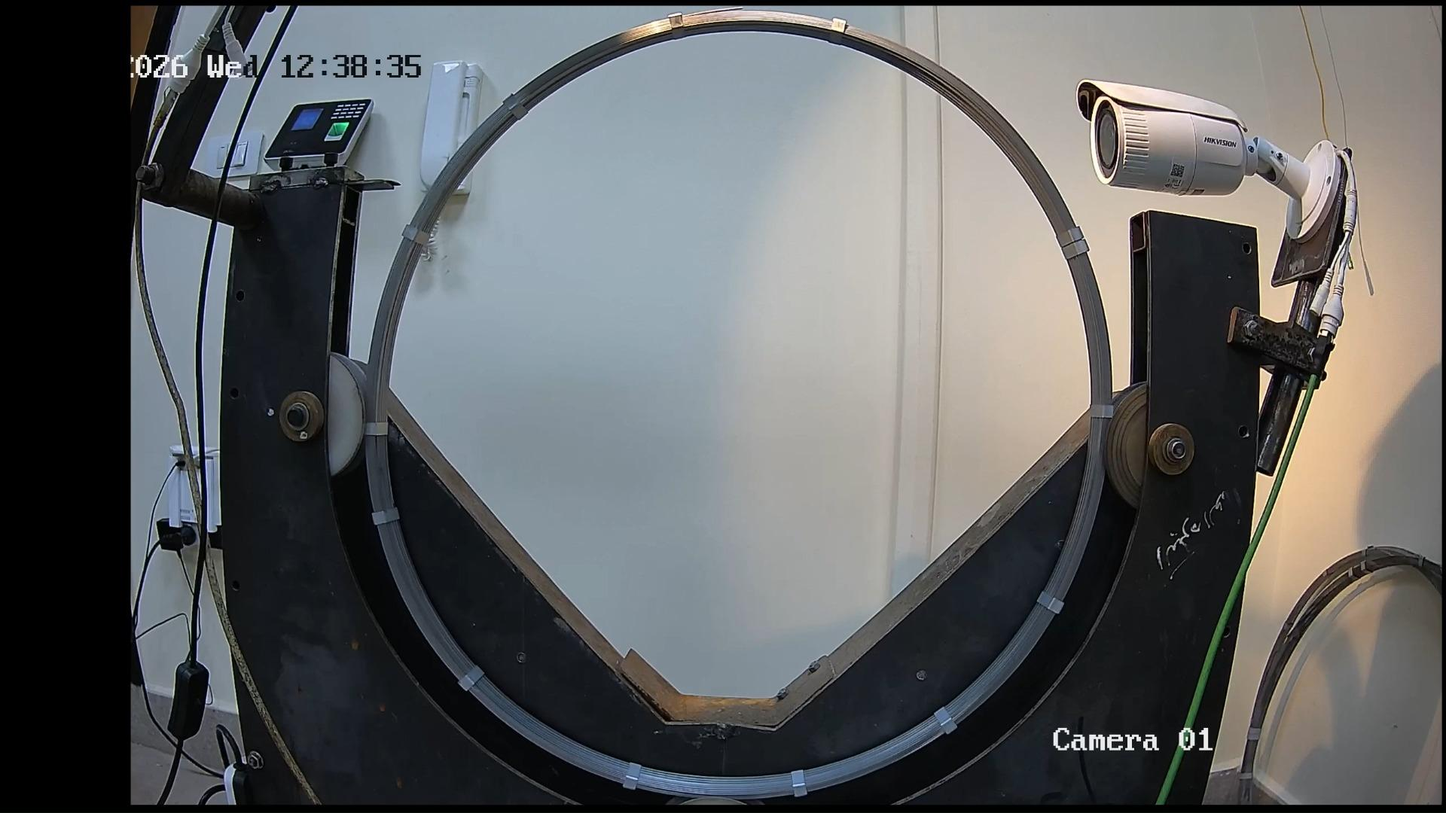Clamp: (459, 665, 482, 690), (504, 93, 526, 119), (1056, 227, 1085, 246), (1037, 592, 1062, 614), (934, 708, 956, 732), (404, 225, 429, 245), (1063, 240, 1088, 259), (372, 507, 398, 525), (623, 763, 641, 789), (667, 13, 684, 38), (1088, 403, 1114, 418), (830, 18, 846, 42), (792, 772, 805, 796), (364, 422, 388, 435)
